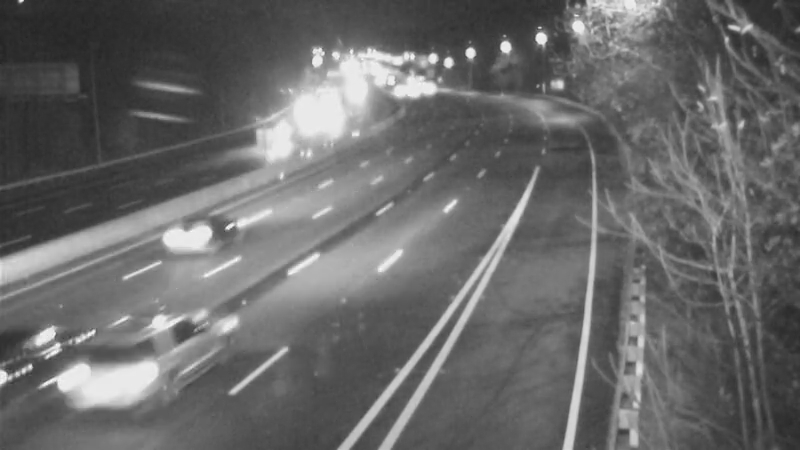vehicle: (49, 327, 159, 437), (1, 301, 91, 411), (143, 197, 223, 277), (252, 117, 302, 167)
